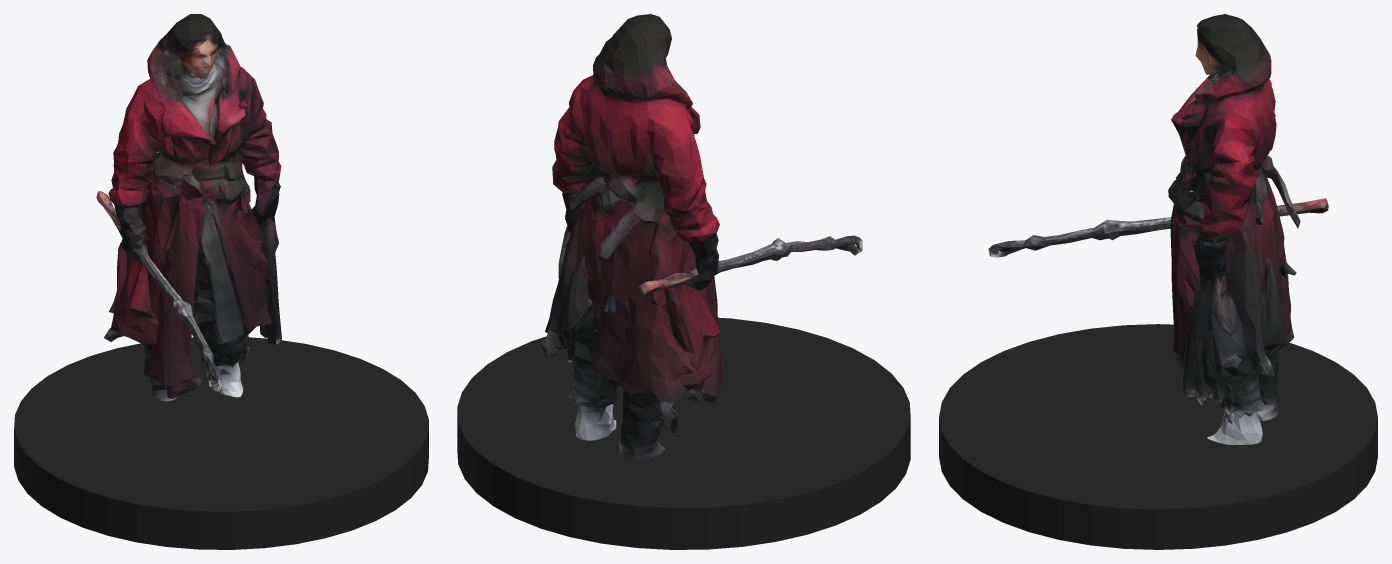
Rendered from maria-lopez.glb.
3 renders of one model, left to right at view 1: azimuth 30°, elevation 25°; view 2: azimuth 150°, elevation 25°; view 3: azimuth 270°, elevation 25°, orthographic. The views are drawn at different scales.
Parts seen in each view (by area): view 1: base, figure; view 2: base, figure; view 3: base, figure.
Part boxes in pixels (<box>): base: <box>14,337,428,549</box>; figure: <box>96,14,281,401</box>; base: <box>457,317,910,549</box>; figure: <box>540,14,862,460</box>; base: <box>939,324,1377,549</box>; figure: <box>988,14,1328,444</box>.
Size of the model in its own units: 1.18 by 1.32 by 1.18.
Materials: 2 (1 with a texture image).
